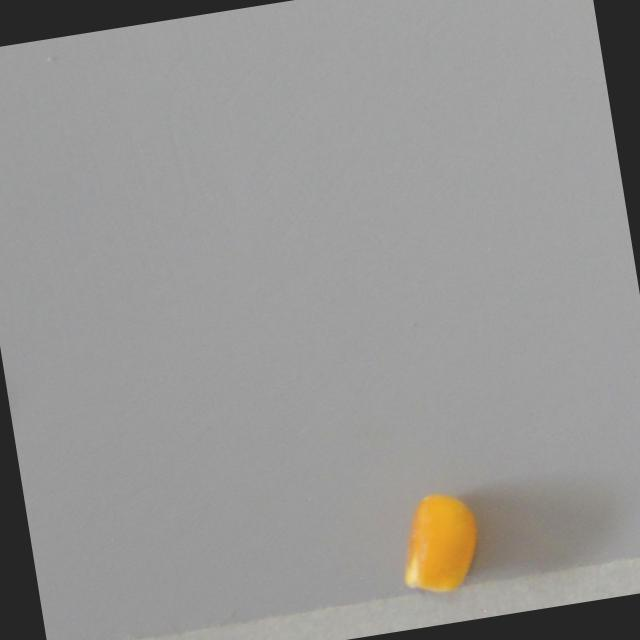dañado: (387, 484, 492, 605)
